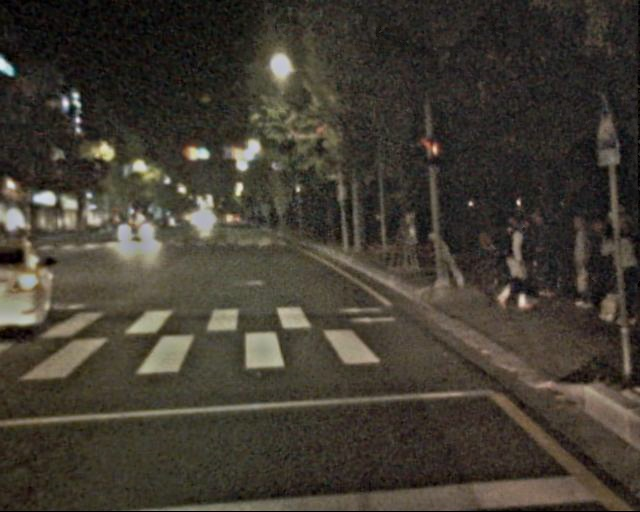person: (506, 209, 561, 295), (600, 225, 640, 331), (496, 218, 535, 314), (565, 216, 604, 311)
